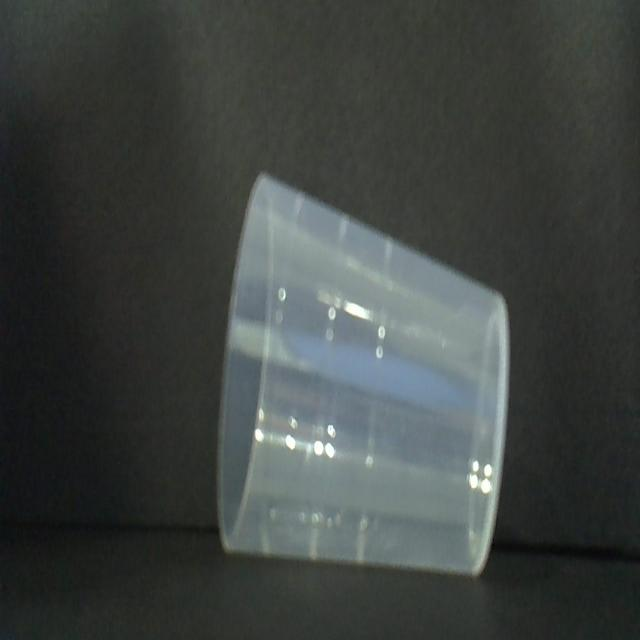cup: (212, 170, 513, 584)
